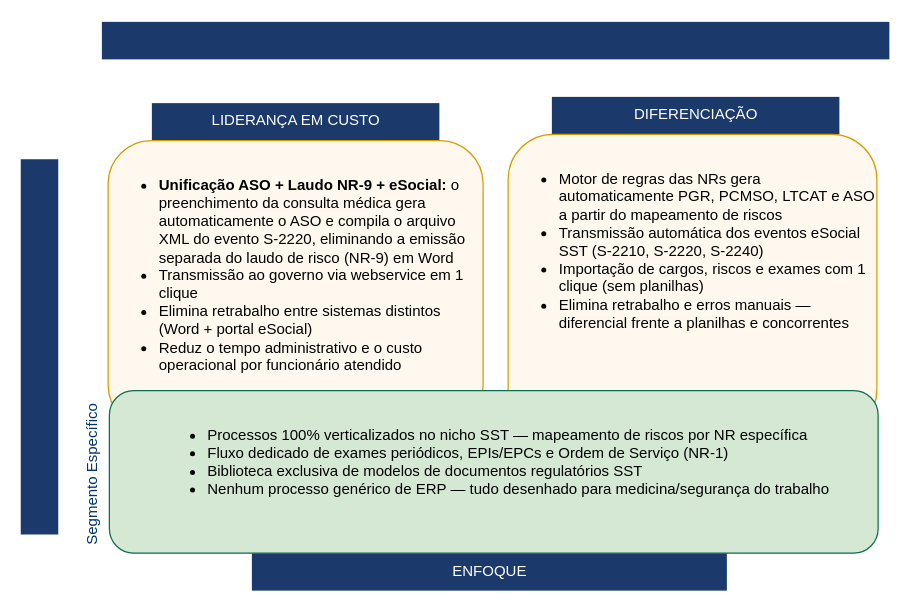
This 911x611 diagram has some shape labels left out. Each missing label, with the box of its shape:
Alvo Amplo (Mercado Geral): (74, 156, 105, 382)
ALVO ESTRATÉGICO: (20, 159, 58, 534)
Estratégias Genéricas de Porter - Processo de Negócio - Sistema ESO: (101, 21, 889, 59)
